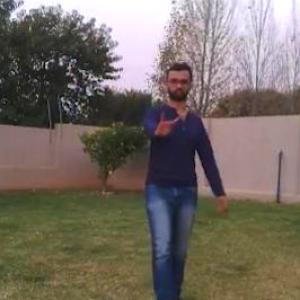takeoff-hand: (150, 106, 182, 143)
